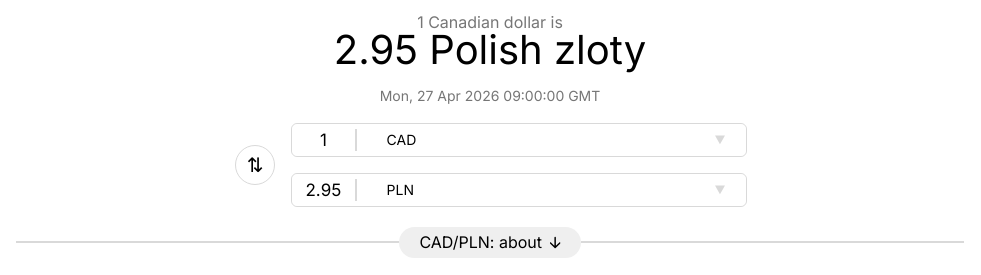
CurrencyConverter › swap exchanges from and to currencies
Click the button "⇅".
click(255, 165)  # box [235, 145, 275, 185]
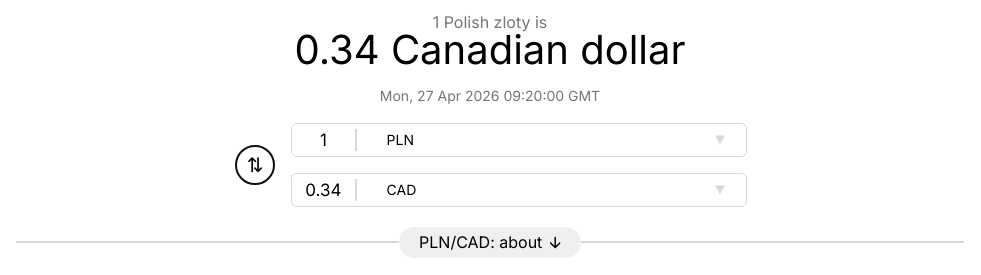
Now the 1st dropdown shows "PLN", box [357, 124, 746, 156]
Now the 2nd dropdown shows "CAD", box [357, 174, 746, 206]
